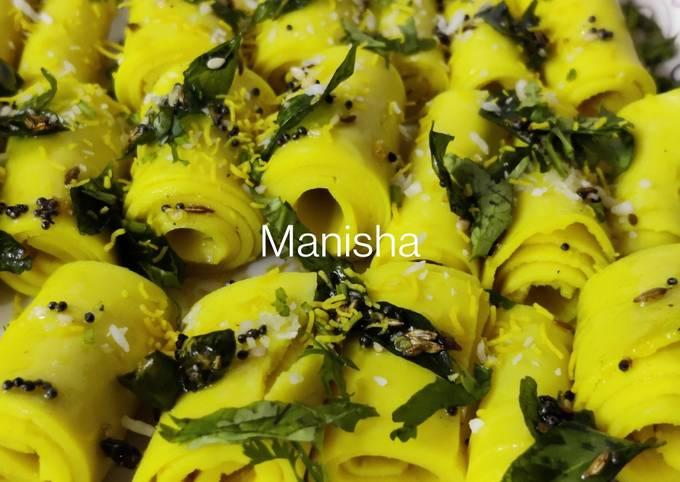khandvi: (1, 0, 678, 225)
